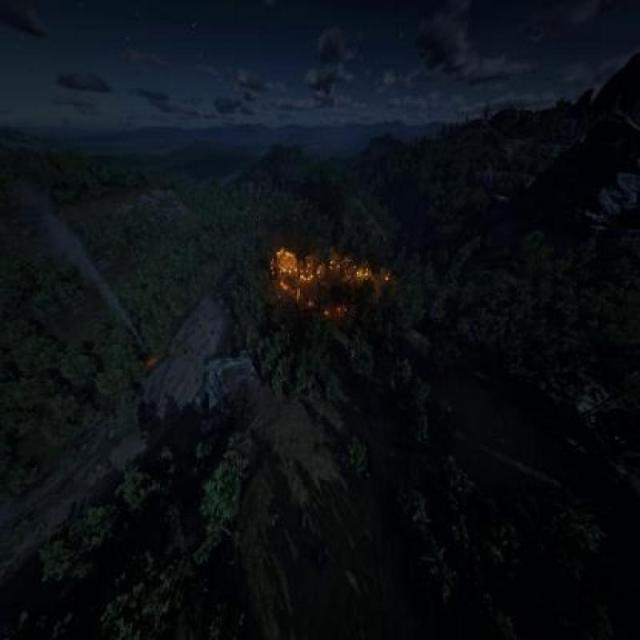Fire: (266, 230, 396, 332), (136, 341, 166, 389)
